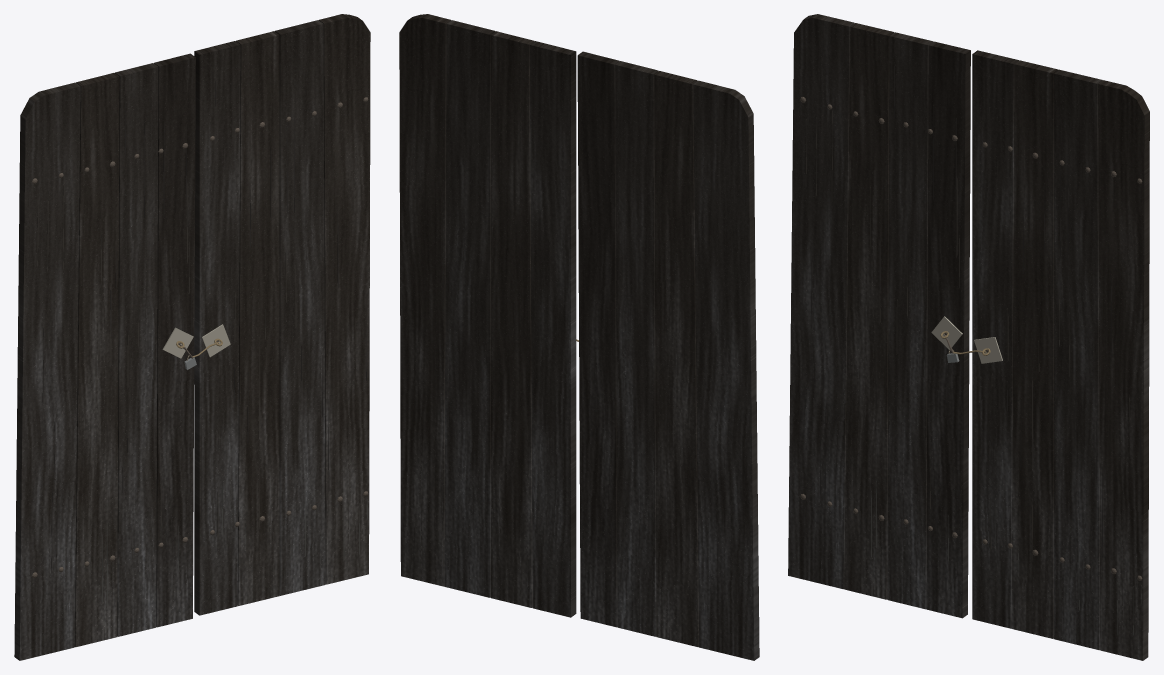
Rendered from pudong-lian-hongsheng-house-paired-plank-doors-lod.glb.
The picture shows the model from 3 angles, left to right: view 1: azimuth 30°, elevation 25°; view 2: azimuth 150°, elevation 25°; view 3: azimuth 330°, elevation 25°; orthographic projection.
Parts seen in each view (by area): view 1: 连宏生宅石库门双扇木门与斜角锁牌; view 2: 连宏生宅石库门双扇木门与斜角锁牌; view 3: 连宏生宅石库门双扇木门与斜角锁牌.
Part boxes in pixels (x1,y1,x2,y2): 连宏生宅石库门双扇木门与斜角锁牌: (14,14,370,660); 连宏生宅石库门双扇木门与斜角锁牌: (399,14,759,660); 连宏生宅石库门双扇木门与斜角锁牌: (788,14,1149,660).
Bounding box in the file's own units: 1.66 × 2.52 × 0.0945.
Materials: 11 (3 with a texture image).
